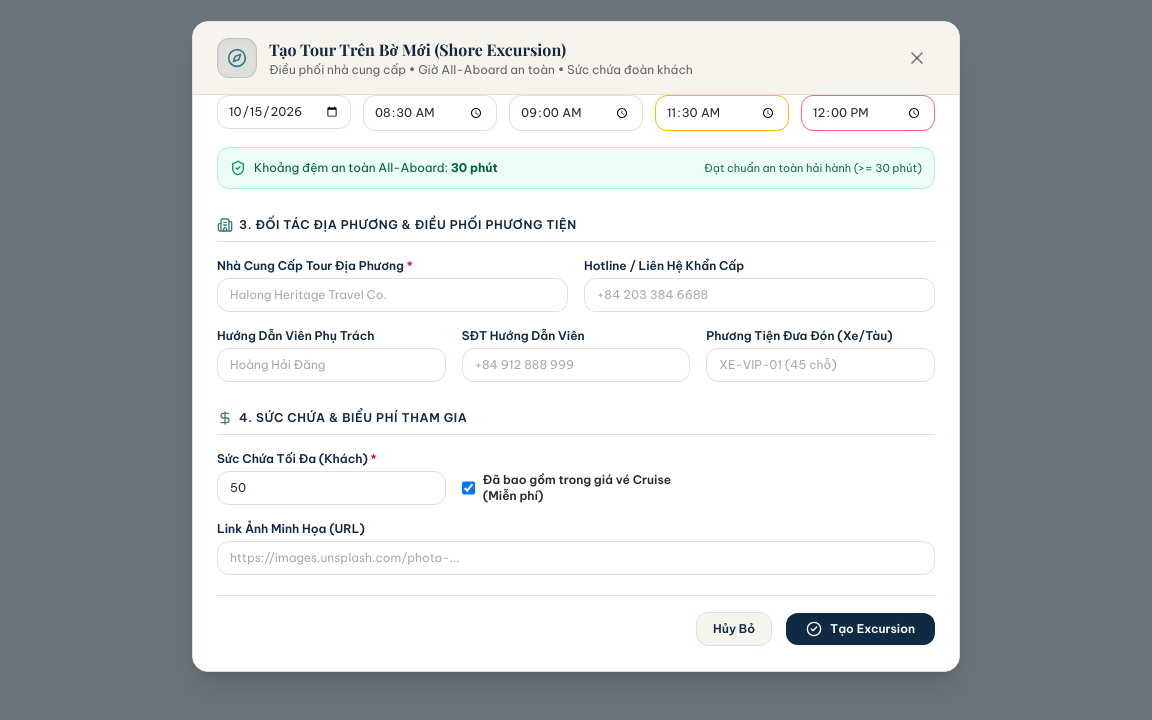
Test case: ExcursionModal Component Tests (KAN-172 & KAN-174) › displays validation errors when submitting with empty required fields
(page scrolled)
Click the button "Tạo Excursion": x=861, y=629 786,613 -> 935,645
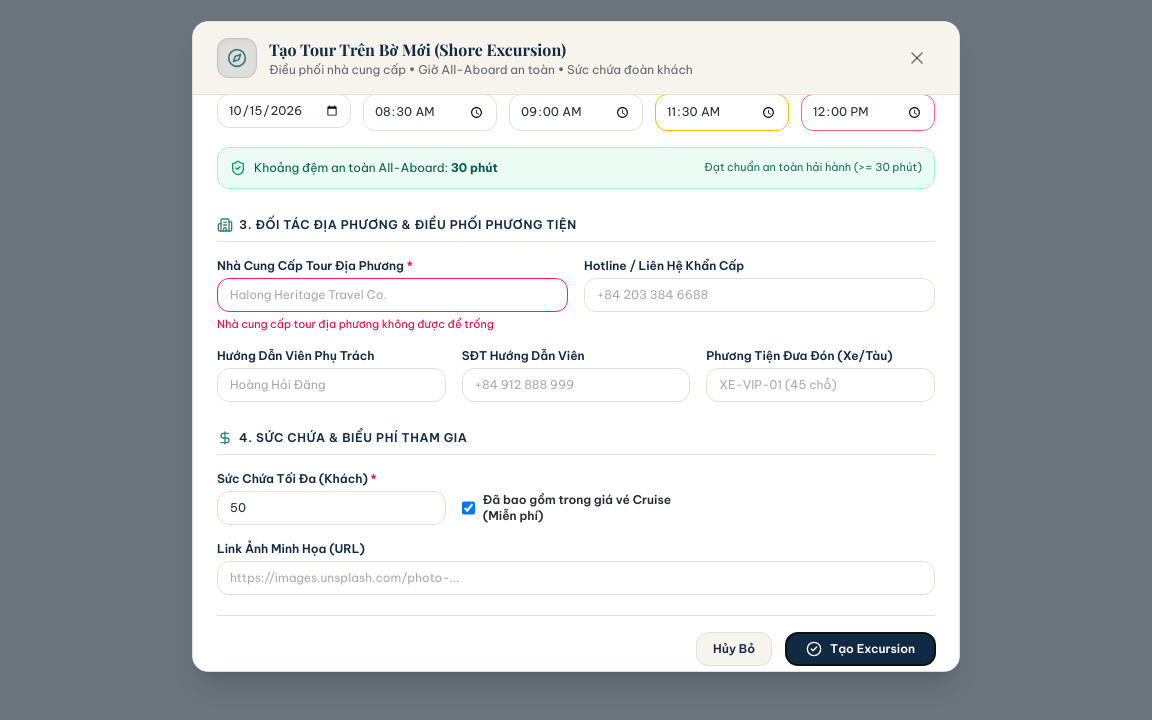
Now the text "Nhà cung cấp tour địa phương không được để trống" is shown, box 217,317 -> 494,331
